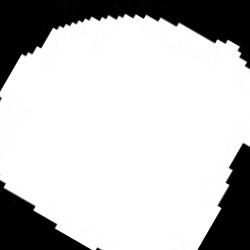spot: (0, 14, 249, 247)
